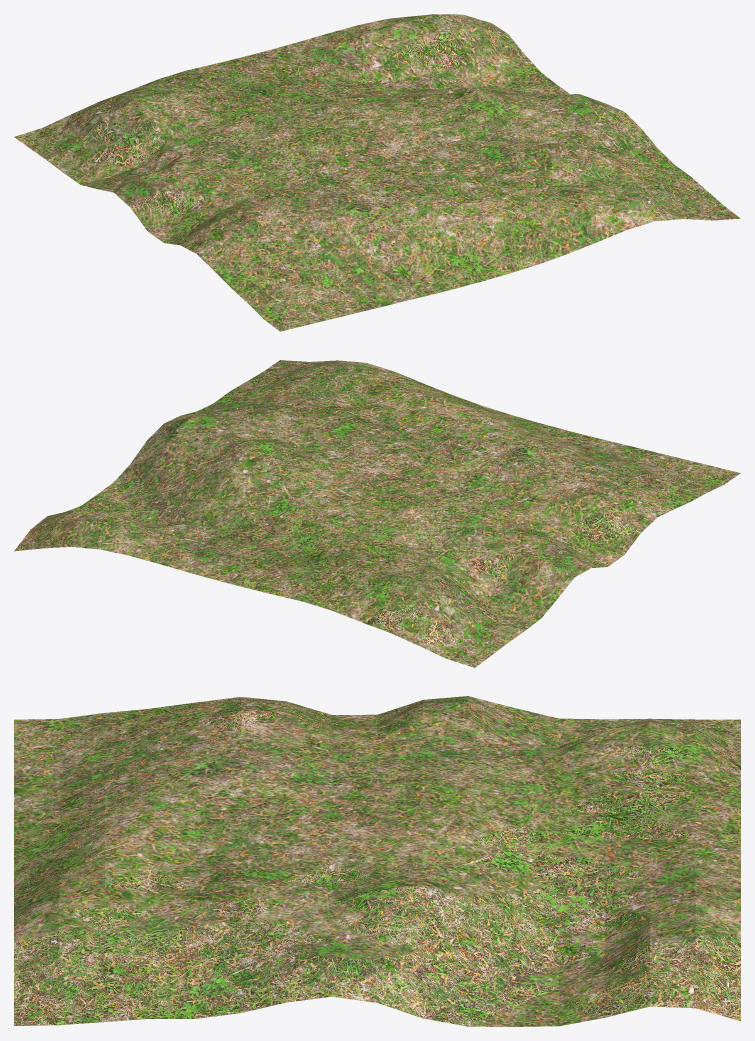
The model's file is terrain.obj.
3 views of the same model, one above another, from view 1: azimuth 30°, elevation 25°; view 2: azimuth 150°, elevation 25°; view 3: azimuth 270°, elevation 25° (orthographic). The views are drawn at different scales.
Parts seen in each view (by area): view 1: Plane; view 2: Plane; view 3: Plane.
Boxes of the visible parts, box(x1,y1,x2,y2) form: Plane: box(14, 14, 740, 331); Plane: box(14, 360, 740, 667); Plane: box(14, 696, 740, 1026).
Bounding box in the file's own units: 20 × 1.95 × 20.
Materials: 1 (1 with a texture image).
